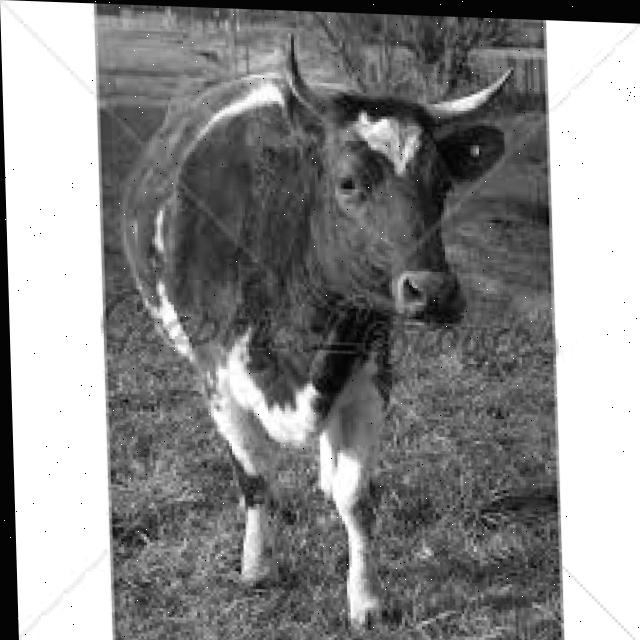Cow: (109, 21, 531, 640)
